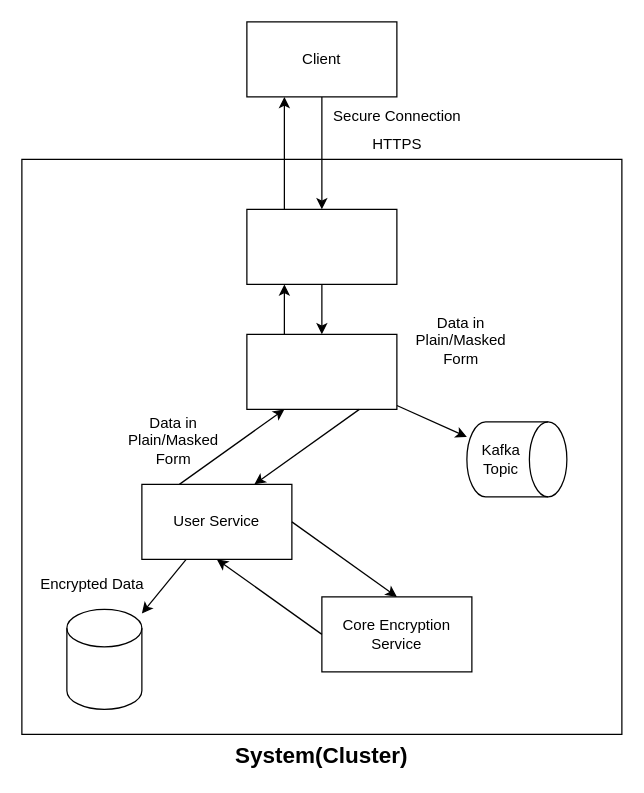
The diagram is 644 pixels wide and 793 high, and some of its shapes have lost their labels. The centre of each missing label's shape, as x and y in pixels:
"API Gateway" goes at pixel 321 246.
"DB" goes at pixel 104 658.
"Municipal Service" goes at pixel 321 371.
